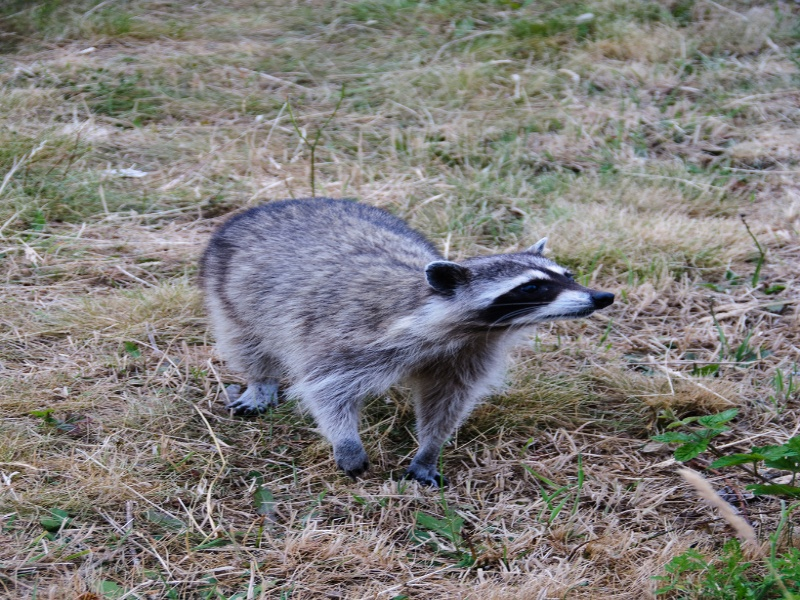raccoon: (198, 197, 622, 482)
